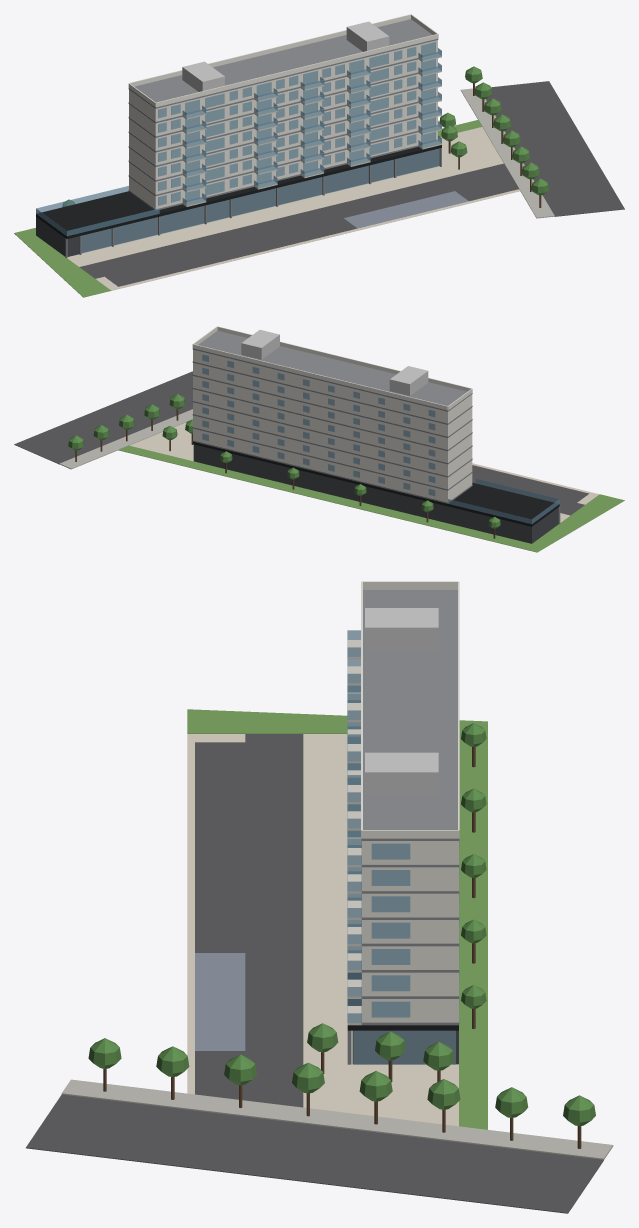
Rendered from kutle_duz.obj.
3 renders of one model, top to bottom at view 1: azimuth 30°, elevation 25°; view 2: azimuth 150°, elevation 25°; view 3: azimuth 270°, elevation 25°, orthographic. The views are drawn at different scales.
Parts seen in each view (by area): view 1: cadde, arsa, arac_yolu, zemin_kat, cati_doseme, tabela_bandi, otopark, kat_7, kat_4, kat_1, kat_3, kat_6 (+54 smaller); view 2: zemin_kat, cadde, cati_doseme, kat_2, kat_6, kat_7, kat_1, kat_5, kat_3, kat_4, tabela_bandi, yesil_kuzey (+23 smaller); view 3: cadde, arsa, arac_yolu, cati_doseme, otopark, yesil_kuzey, kaldirim, rampa, yesil_arka, cati_cikisi_CB, cati_cikisi_CA, cati_parapet (+14 smaller).
Boxes of the visible parts, bbox=[...] form: cadde: bbox=[486, 81, 624, 216]; arsa: bbox=[14, 127, 519, 297]; arac_yolu: bbox=[79, 163, 511, 278]; zemin_kat: bbox=[36, 148, 439, 256]; cati_doseme: bbox=[128, 19, 438, 108]; tabela_bandi: bbox=[36, 145, 441, 238]; otopark: bbox=[105, 177, 518, 286]; kat_7: bbox=[129, 40, 437, 121]; kat_4: bbox=[129, 87, 437, 165]; kat_1: bbox=[129, 131, 437, 208]; kat_3: bbox=[129, 102, 437, 179]; kat_6: bbox=[129, 58, 437, 136]; zemin_kat: bbox=[193, 444, 558, 543]; cadde: bbox=[14, 371, 192, 464]; cati_doseme: bbox=[192, 330, 472, 411]; kat_2: bbox=[193, 415, 472, 489]; kat_6: bbox=[193, 363, 472, 436]; kat_7: bbox=[193, 349, 472, 423]; kat_1: bbox=[193, 428, 472, 502]; kat_5: bbox=[193, 376, 472, 449]; kat_3: bbox=[193, 402, 472, 475]; kat_4: bbox=[193, 389, 472, 462]; tabela_bandi: bbox=[193, 442, 559, 526]; yesil_kuzey: bbox=[118, 445, 545, 552]; cadde: bbox=[26, 1094, 603, 1213]; arsa: bbox=[187, 734, 458, 1126]; arac_yolu: bbox=[245, 734, 303, 1107]; cati_doseme: bbox=[361, 590, 459, 840]; otopark: bbox=[195, 742, 245, 1100]; yesil_kuzey: bbox=[459, 720, 487, 1129]; kaldirim: bbox=[61, 1079, 613, 1159]; rampa: bbox=[195, 953, 245, 1050]; yesil_arka: bbox=[187, 709, 347, 733]; cati_cikisi_CB: bbox=[365, 608, 438, 651]; cati_cikisi_CA: bbox=[365, 752, 438, 795]; cati_parapet: bbox=[361, 581, 459, 838].
Bounding box in the file's own units: 123 × 28.6 × 60.67.
